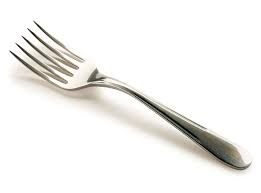fork: (5, 16, 257, 173)
